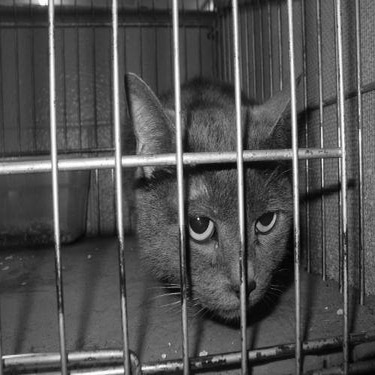cat: (89, 30, 317, 315)
